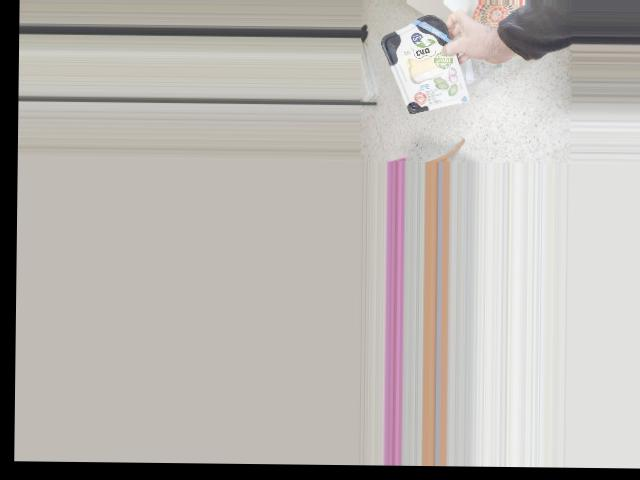cheese: (387, 11, 455, 114)
